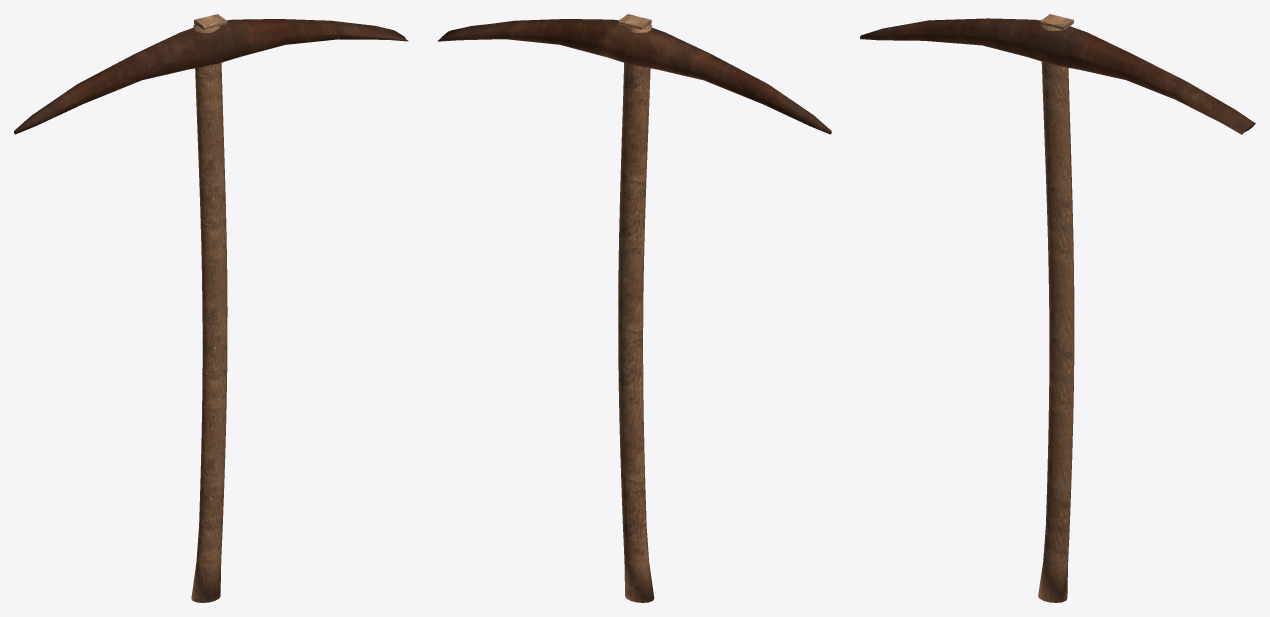
The model's file is b_tool_pick1.glb.
3 views of the same model, side by side, from view 1: azimuth 30°, elevation 25°; view 2: azimuth 150°, elevation 25°; view 3: azimuth 330°, elevation 25° (orthographic).
Visible parts, largest first — view 1: b_tool_pick1; view 2: b_tool_pick1; view 3: b_tool_pick1.
Part boxes in pixels (x1,y1,x2,y2): b_tool_pick1: (14,14,408,602); b_tool_pick1: (437,14,831,602); b_tool_pick1: (860,14,1255,602).
Bounding box in the file's own units: 0.593 × 0.845 × 0.044.
Materials: 2 (2 with a texture image).
